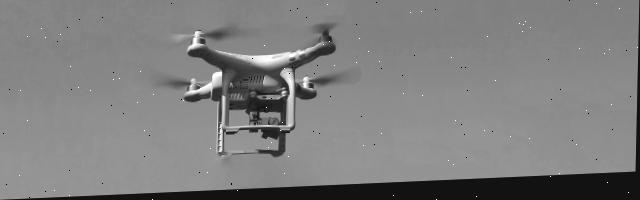drone: (143, 9, 369, 173)
